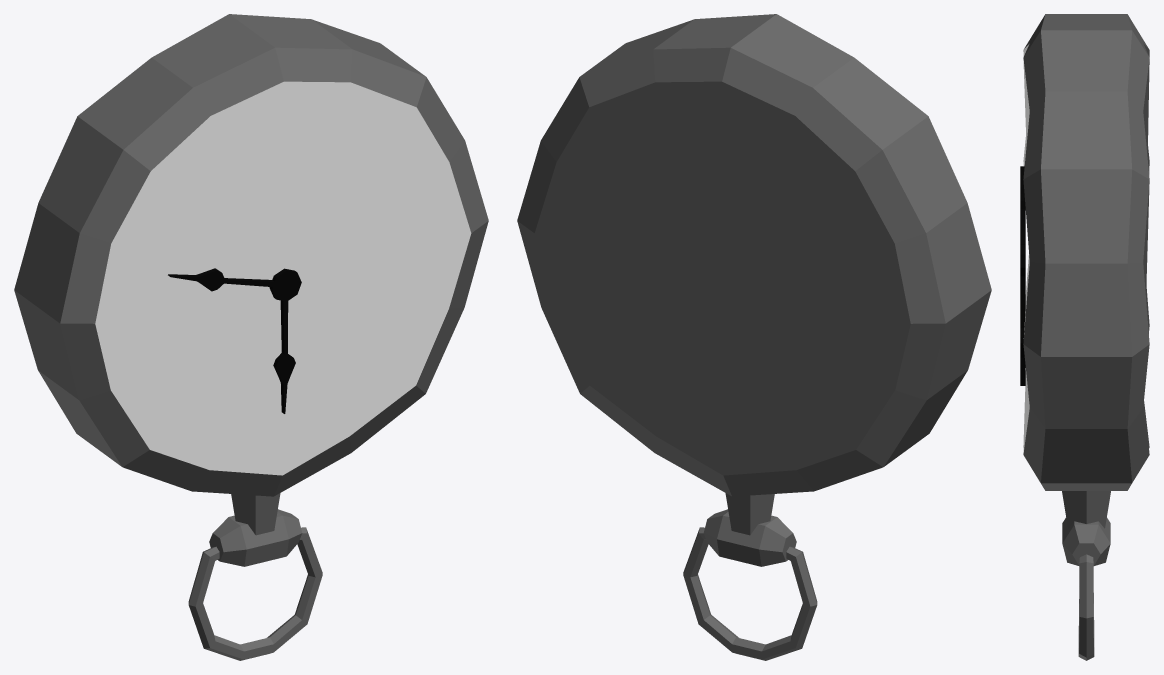
File: Clock.fbx
The picture shows the model from 3 angles, left to right: view 1: azimuth 30°, elevation 25°; view 2: azimuth 150°, elevation 25°; view 3: azimuth 270°, elevation 25°; orthographic projection.
Visible parts, largest first — view 1: Cube; view 2: Cube; view 3: Cube.
Part boxes in pixels (left/top/right/bottom): Cube: left=14, top=14, right=488, bottom=660; Cube: left=517, top=14, right=991, bottom=660; Cube: left=1020, top=14, right=1149, bottom=660.
Size of the model in its own units: 29.48 by 112 by 156.
1 material, 1 textured.
